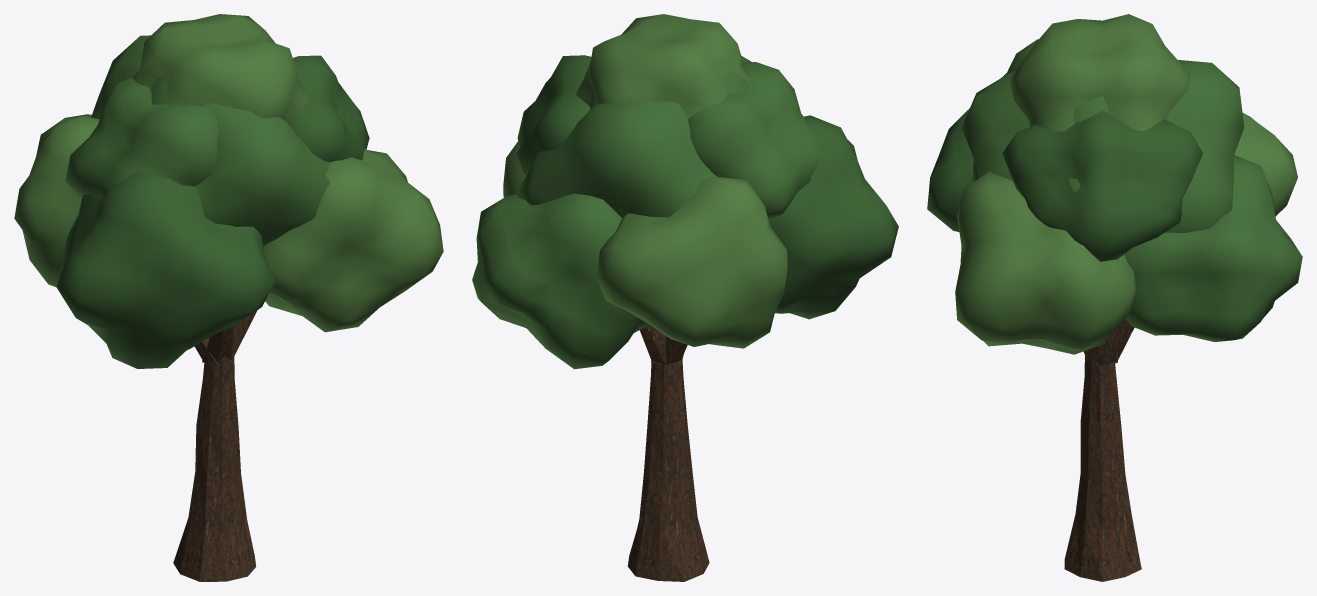
The model's file is broadleaf_tree.glb.
3 renders of one model, left to right at view 1: azimuth 30°, elevation 25°; view 2: azimuth 150°, elevation 25°; view 3: azimuth 270°, elevation 25°, orthographic.
Visible parts, largest first — view 1: BroadleafTree; view 2: BroadleafTree; view 3: BroadleafTree.
Boxes of the visible parts, bbox=[...] form: BroadleafTree: bbox=[14, 14, 443, 581]; BroadleafTree: bbox=[472, 14, 898, 581]; BroadleafTree: bbox=[927, 14, 1302, 581].
Bounding box in the file's own units: 3.41 × 4.79 × 3.07.
Materials: 4 (1 with a texture image).
